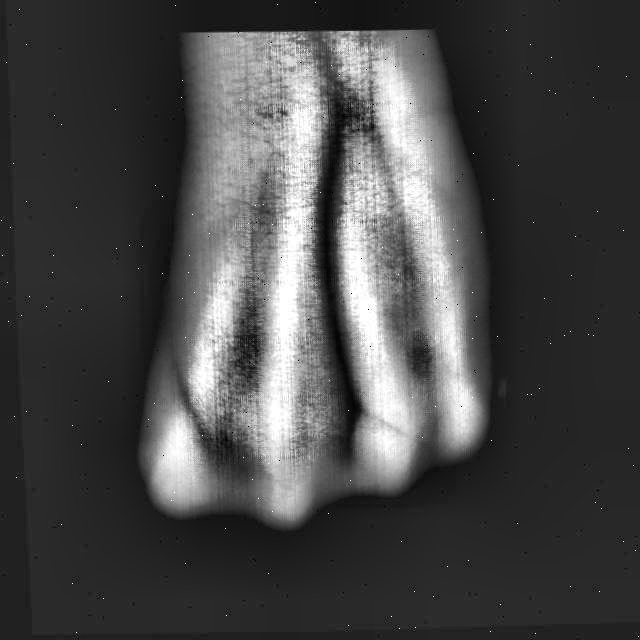Vein: (313, 171, 350, 349)
